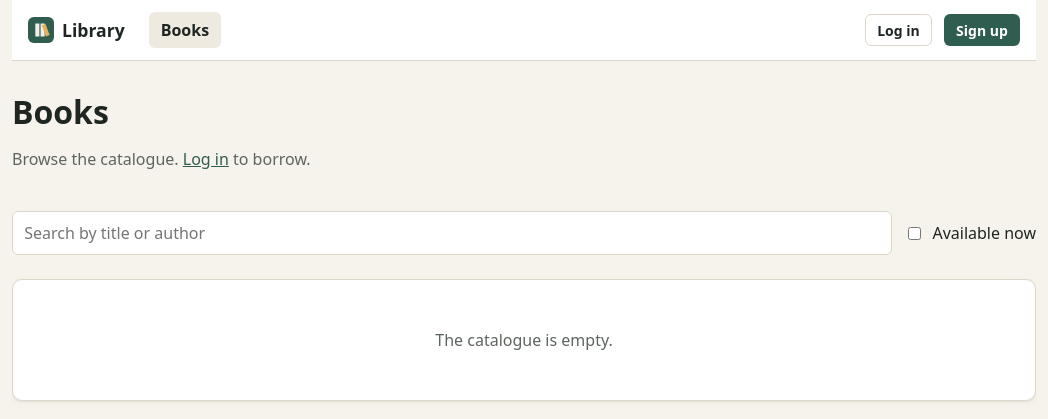
Test: the catalogue › sends the search to the API
This screenshot has width=1048, height=419.
In the search field named "Search books": point(452, 233) [12,211,892,255], type "fowler"
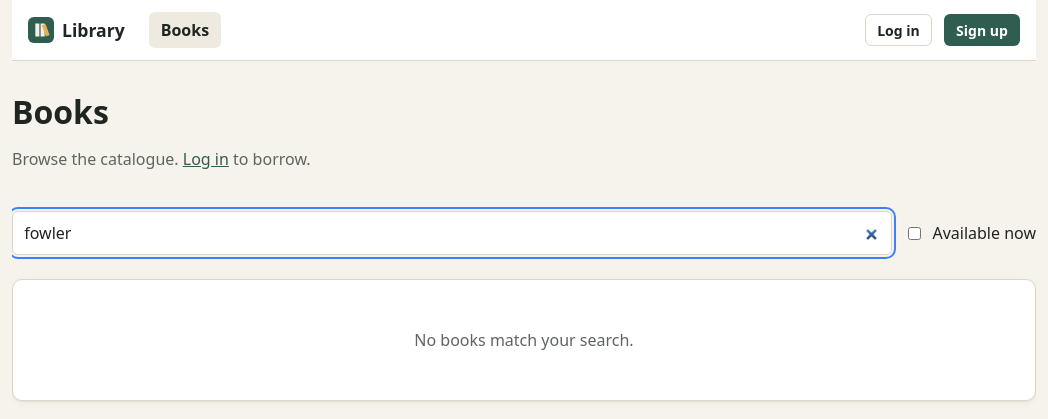
Now the text "No books match your search." is shown, box [12,279,1036,401]
